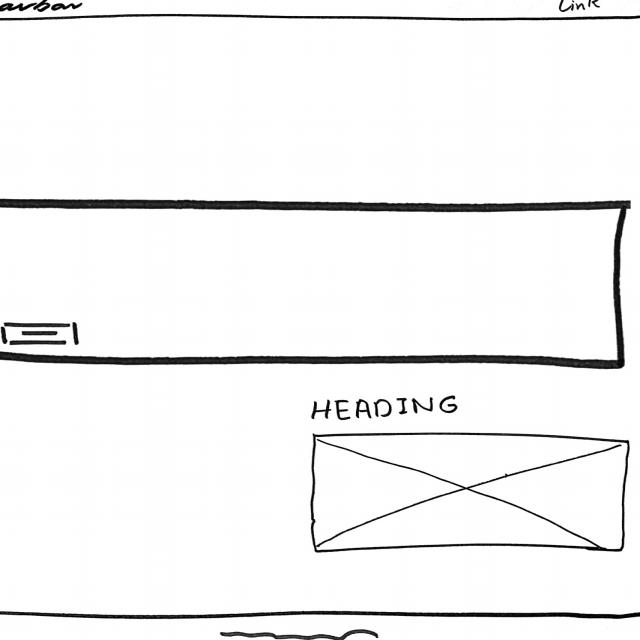container: (1, 198, 627, 372), (1, 1, 640, 24)
icon-button: (1, 320, 83, 348)
image: (308, 430, 628, 557)
label: (306, 393, 463, 424), (1, 1, 85, 17), (558, 1, 605, 13)
text: (217, 628, 383, 640)
